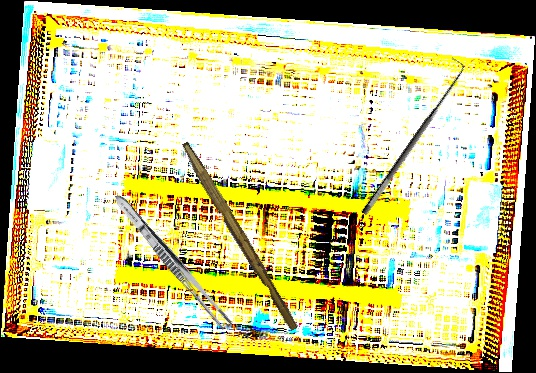Dressing Forceps: (109, 190, 236, 333)
Hook Surgical: (349, 56, 472, 218)
Scalpel Handle: (175, 140, 303, 333)
